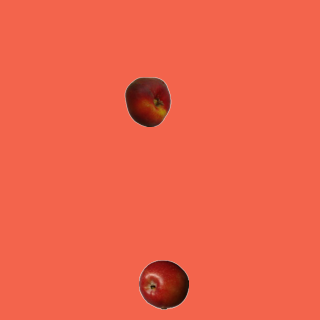Apple Braeburn: (138, 259, 188, 309)
Nectarine Flat: (122, 76, 172, 126)
